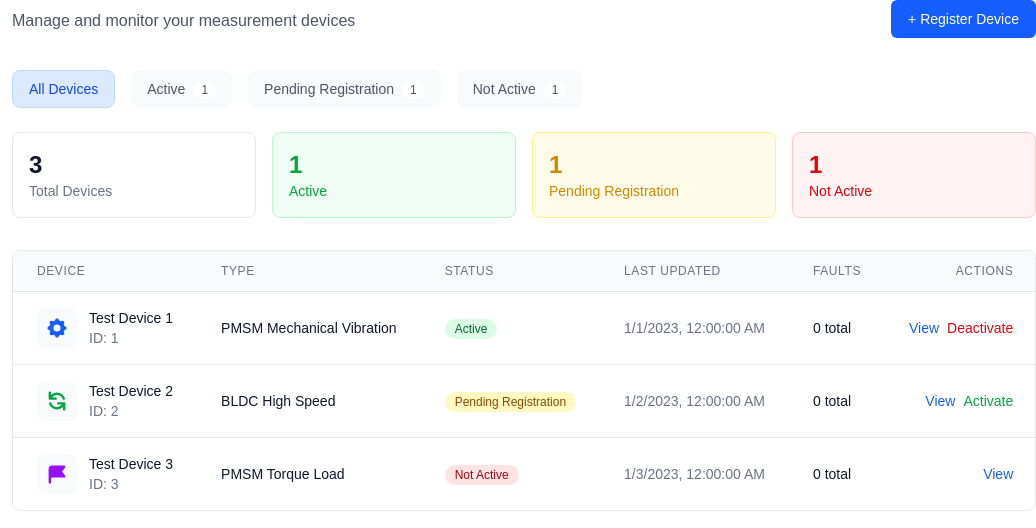
it: DevicesPage › filters devices by status
Check: the link "Test Device 1" is shown, box [89,310,173,326]
Step 1. Click the button "Active1" → (182, 89), box [131,70,232,108]
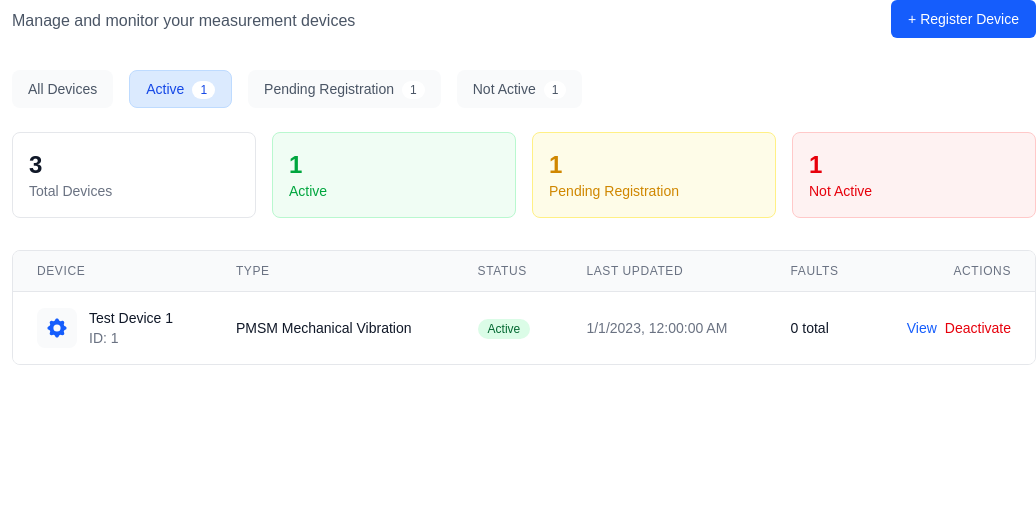
Check: the link "Test Device 1" is shown, box [89,310,173,326]
Check: the link "Test Device 2" is gone
Check: the link "Test Device 3" is gone
